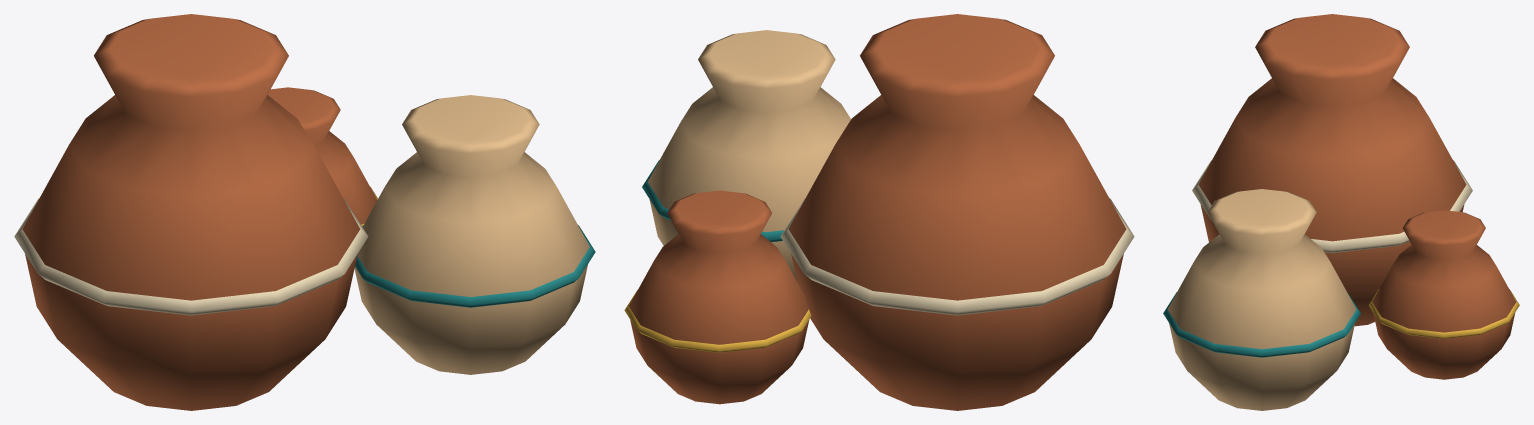
Rendered from desert_pots.glb.
3 views of the same model, side by side, from view 1: azimuth 30°, elevation 25°; view 2: azimuth 150°, elevation 25°; view 3: azimuth 270°, elevation 25° (orthographic). The views are drawn at different scales.
Visible parts, largest first — view 1: D_Pots__D_clay, D_Pots__D_s2, D_Pots__D_cream, D_Pots__D_teal; view 2: D_Pots__D_clay, D_Pots__D_s2, D_Pots__D_cream, D_Pots__D_gold, D_Pots__D_teal; view 3: D_Pots__D_clay, D_Pots__D_s2, D_Pots__D_teal, D_Pots__D_cream, D_Pots__D_gold.
Boxes of the visible parts, x1=… form: D_Pots__D_clay: x1=22, y1=14, x2=377, y2=410; D_Pots__D_s2: x1=354, y1=95, x2=589, y2=374; D_Pots__D_cream: x1=14, y1=198, x2=368, y2=315; D_Pots__D_teal: x1=355, y1=225, x2=595, y2=307; D_Pots__D_clay: x1=629, y1=14, x2=1126, y2=410; D_Pots__D_s2: x1=647, y1=30, x2=850, y2=280; D_Pots__D_cream: x1=780, y1=198, x2=1134, y2=315; D_Pots__D_gold: x1=624, y1=290, x2=811, y2=352; D_Pots__D_teal: x1=642, y1=160, x2=783, y2=242; D_Pots__D_clay: x1=1198, y1=14, x2=1516, y2=379; D_Pots__D_s2: x1=1167, y1=189, x2=1356, y2=410; D_Pots__D_teal: x1=1163, y1=292, x2=1360, y2=357; D_Pots__D_cream: x1=1192, y1=160, x2=1472, y2=253; D_Pots__D_gold: x1=1368, y1=289, x2=1519, y2=338.
Bounding box in the file's own units: 1.1 × 0.6864 × 0.8619.
